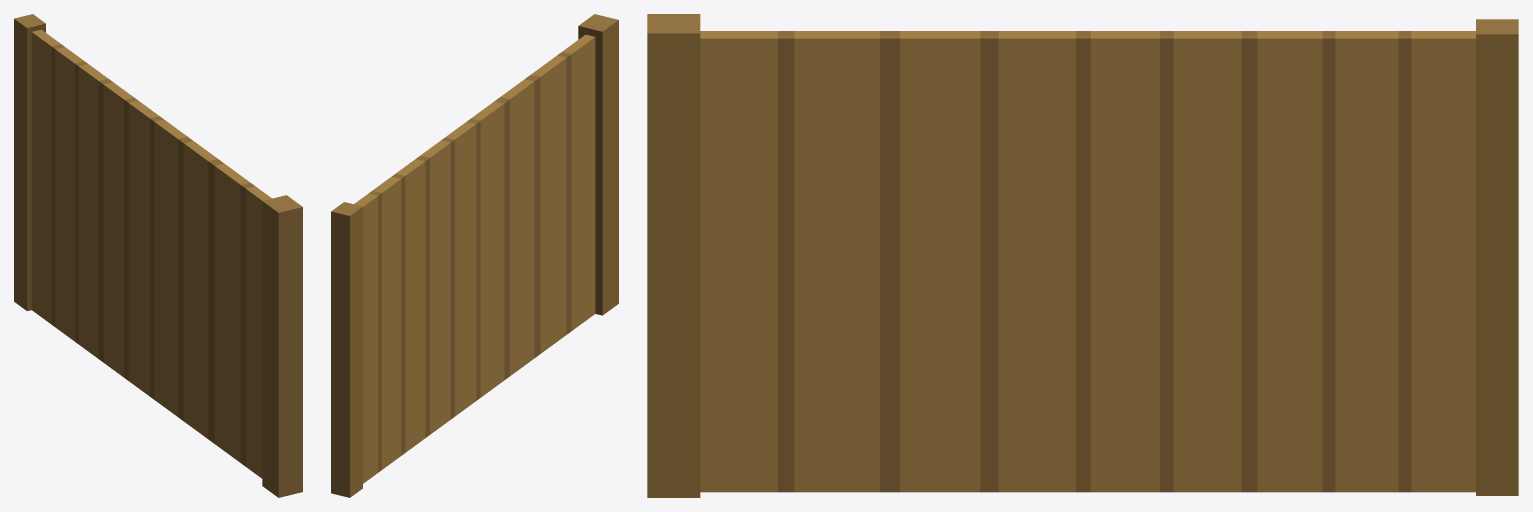
The model's file is SA_Prop_Fence_Wood_01.glb.
3 renders of one model, left to right at view 1: azimuth 30°, elevation 25°; view 2: azimuth 150°, elevation 25°; view 3: azimuth 270°, elevation 25°, orthographic. The views are drawn at different scales.
Visible parts, largest first — view 1: SA_Prop_Fence_Wood_01; view 2: SA_Prop_Fence_Wood_01; view 3: SA_Prop_Fence_Wood_01.
Boxes of the visible parts, x1,y1,x2,y2 form: SA_Prop_Fence_Wood_01: [14, 14, 302, 497]; SA_Prop_Fence_Wood_01: [331, 14, 618, 497]; SA_Prop_Fence_Wood_01: [647, 14, 1518, 497].
Size of the model in its own units: 0.1181 by 1.32 by 2.25.
1 material, 1 textured.
